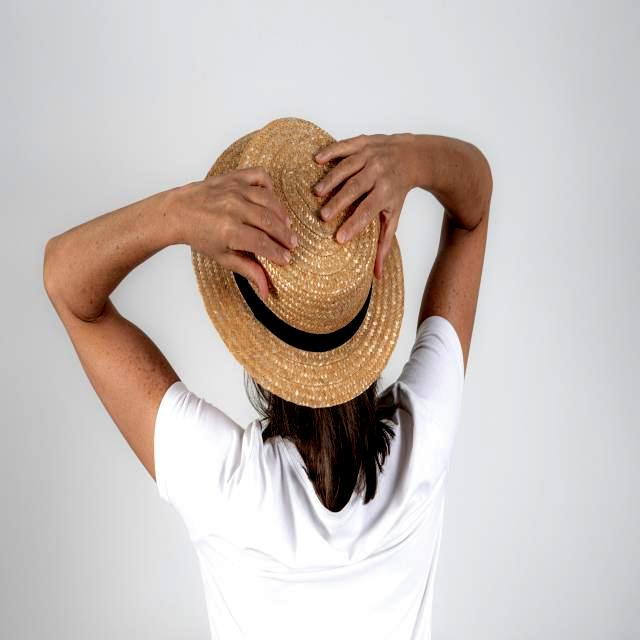no_hard_hat: (192, 118, 404, 408)
person: (44, 119, 492, 638)
